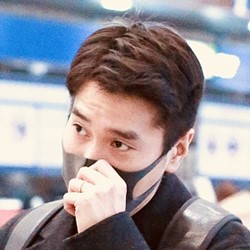mask: (52, 131, 171, 212)
